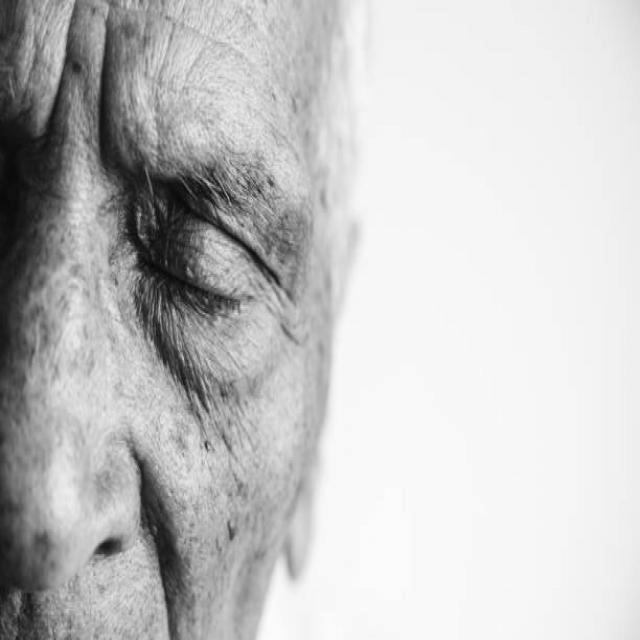real: (104, 114, 318, 412)
